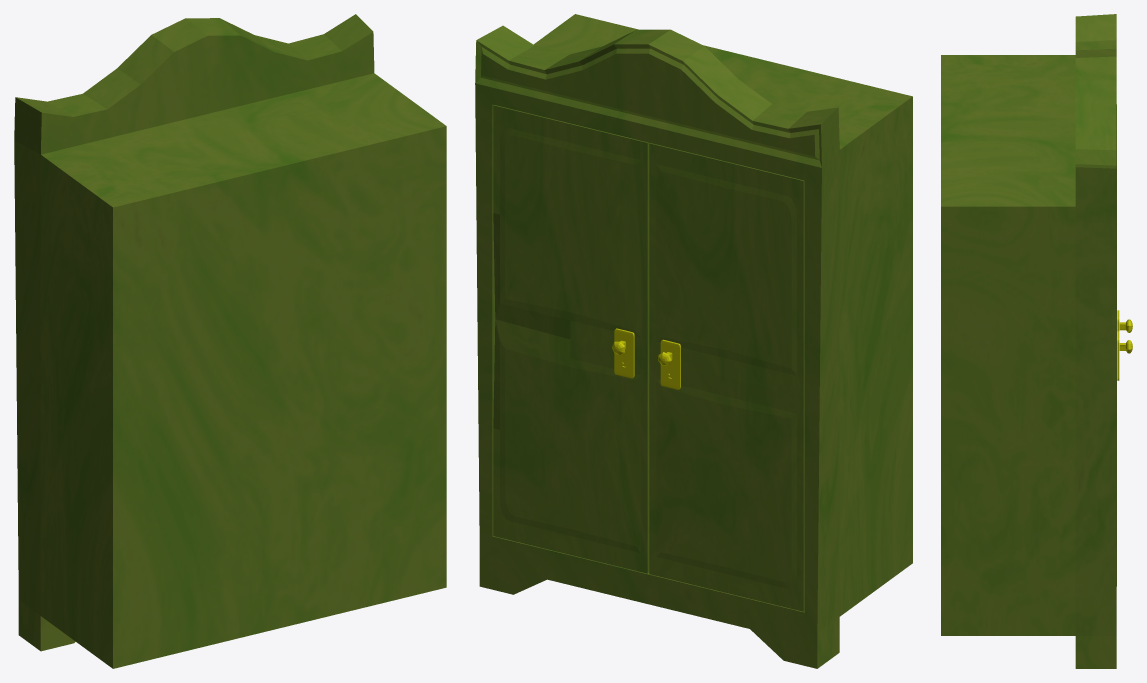
File: skrin2.fbx
The picture shows the model from 3 angles, left to right: view 1: azimuth 30°, elevation 25°; view 2: azimuth 150°, elevation 25°; view 3: azimuth 270°, elevation 25°; orthographic projection. The views are drawn at different scales.
Visible parts, largest first — view 1: Cube.023; view 2: Cube.023, Cube.024, Cube.025, Cube.026, Cube.027; view 3: Cube.023, Cube.024.
Boxes of the visible parts, bbox=[...] form: Cube.023: bbox=[14, 14, 446, 668]; Cube.023: bbox=[475, 14, 912, 668]; Cube.024: bbox=[493, 105, 649, 573]; Cube.025: bbox=[649, 143, 804, 611]; Cube.026: bbox=[612, 328, 634, 378]; Cube.027: bbox=[658, 339, 680, 389]; Cube.023: bbox=[941, 14, 1116, 668]; Cube.024: bbox=[1116, 171, 1116, 586].
Bounding box in the file's own units: 420 × 674 × 218.
Materials: 2 (2 with a texture image).
